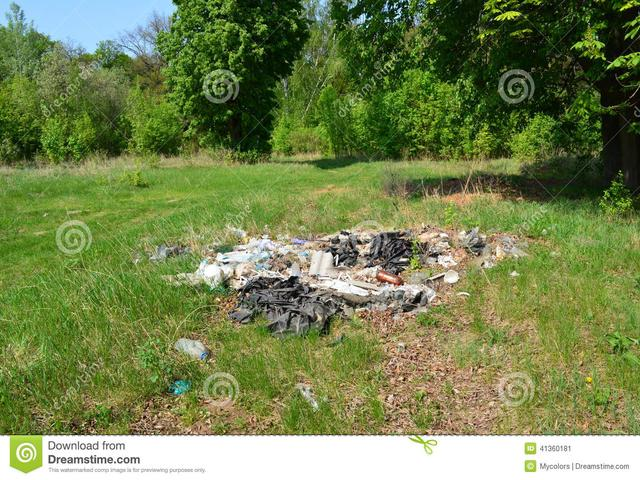garbage: (225, 236, 447, 323)
